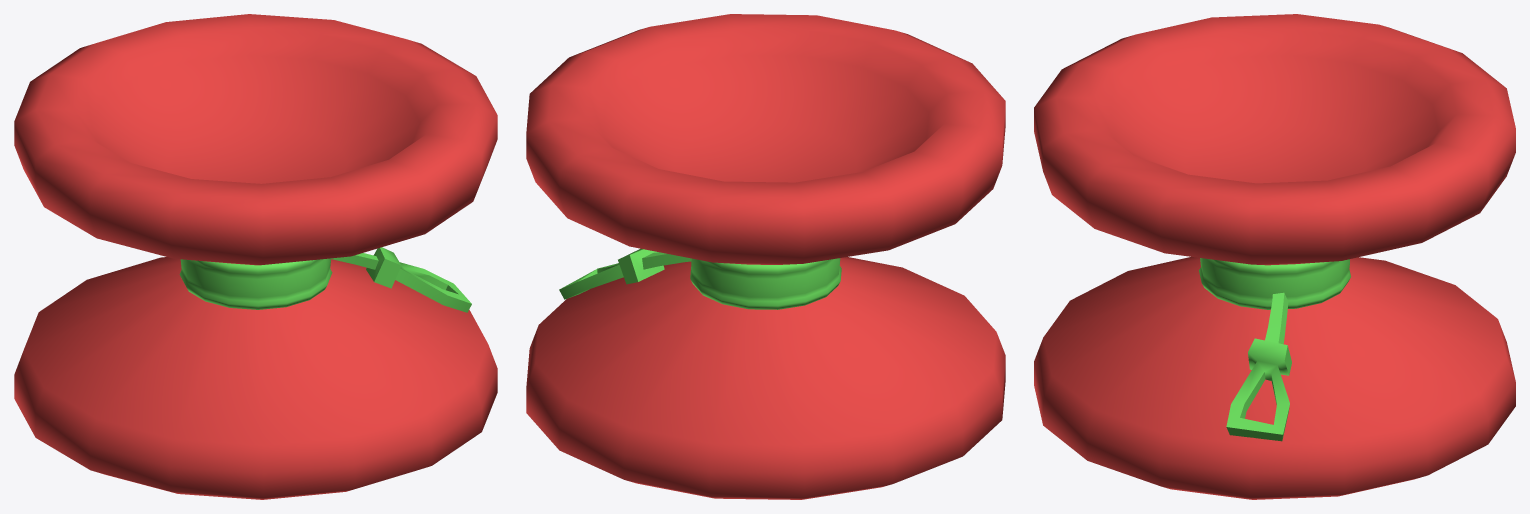
The model's file is Yoyo.fbx.
3 renders of one model, left to right at view 1: azimuth 30°, elevation 25°; view 2: azimuth 150°, elevation 25°; view 3: azimuth 270°, elevation 25°, orthographic.
Parts seen in each view (by area): view 1: Yoyo; view 2: Yoyo; view 3: Yoyo.
Part boxes in pixels (<box>): Yoyo: <box>14,14,497,499</box>; Yoyo: <box>526,14,1005,499</box>; Yoyo: <box>1034,14,1515,499</box>.
Bounding box in the file's own units: 7.89 × 5.44 × 7.89.
